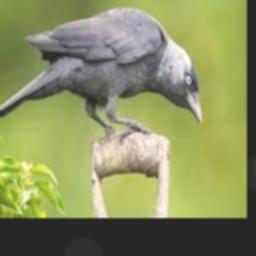Crow: (0, 6, 201, 143)
